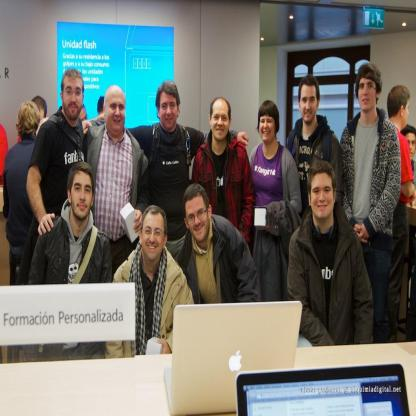board: (167, 302, 302, 416), (235, 364, 408, 416)
